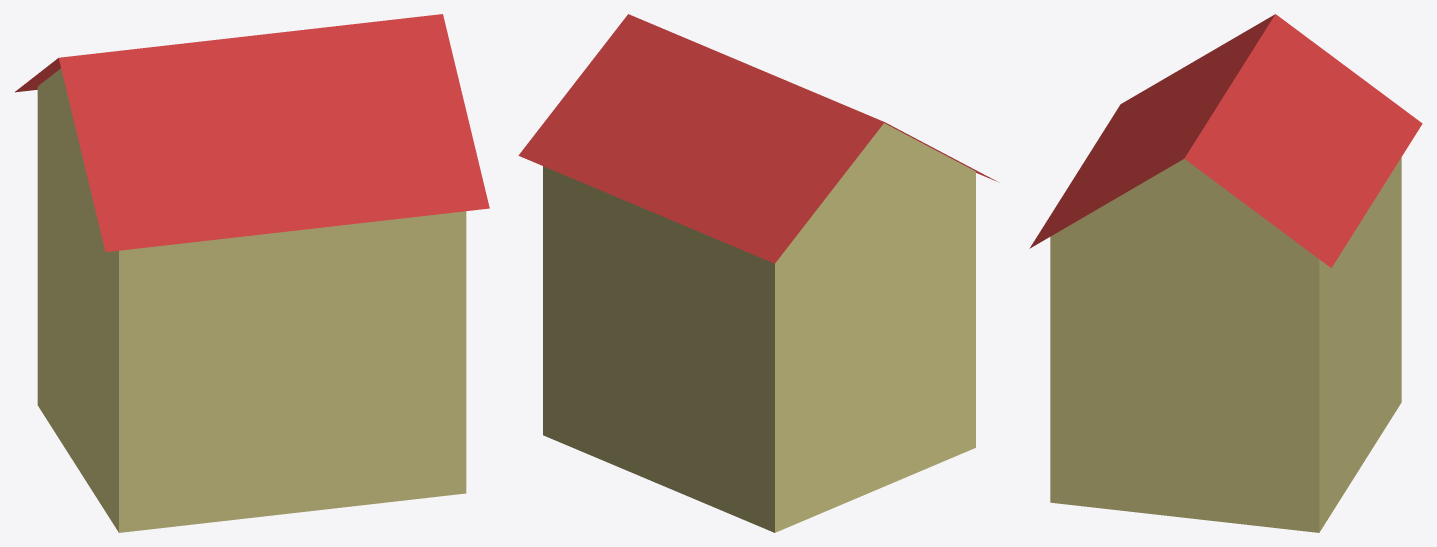
The picture shows the model from 3 angles, left to right: view 1: azimuth 30°, elevation 25°; view 2: azimuth 150°, elevation 25°; view 3: azimuth 270°, elevation 25°; orthographic projection. The views are drawn at different scales.
Bounding box in the file's own units: 18.56 × 17.26 × 17.74.
